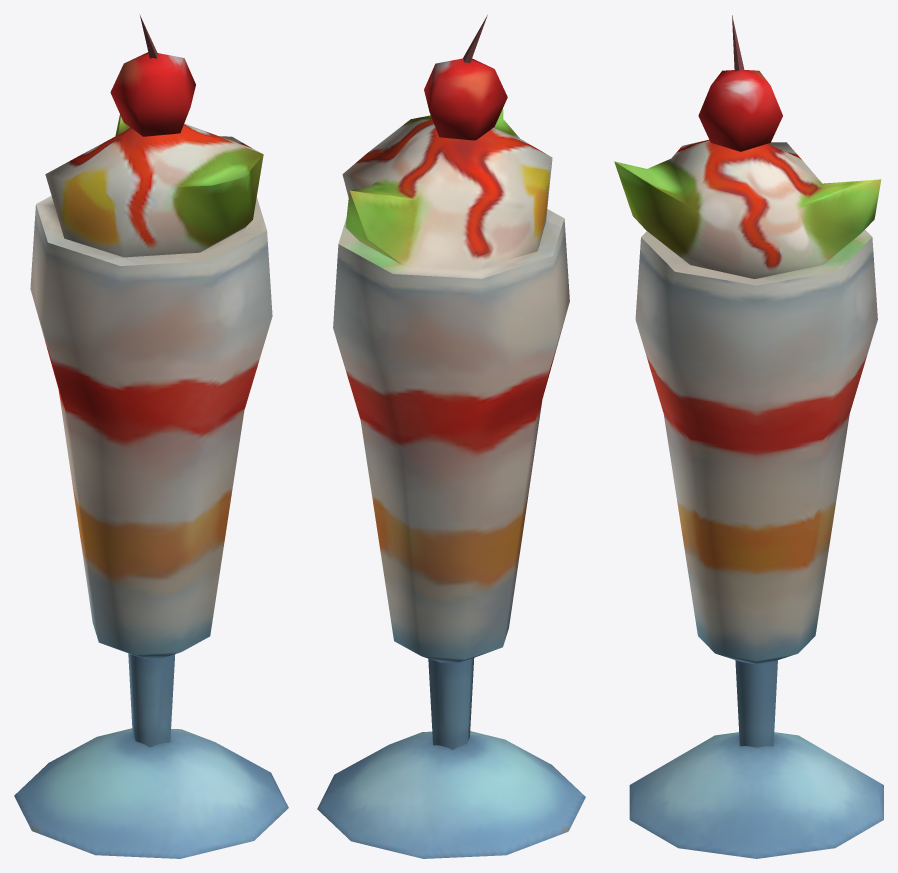
File: Parfait.fbx
The picture shows the model from 3 angles, left to right: view 1: azimuth 30°, elevation 25°; view 2: azimuth 150°, elevation 25°; view 3: azimuth 270°, elevation 25°; orthographic projection. The views are drawn at different scales.
Parts seen in each view (by area): view 1: Parfait; view 2: Parfait; view 3: Parfait.
Boxes of the visible parts, bbox=[...] form: Parfait: bbox=[14, 14, 288, 858]; Parfait: bbox=[317, 15, 585, 858]; Parfait: bbox=[614, 15, 883, 858].
Bounding box in the file's own units: 0.1829 × 0.5867 × 0.1846.
Materials: 1 (1 with a texture image).
